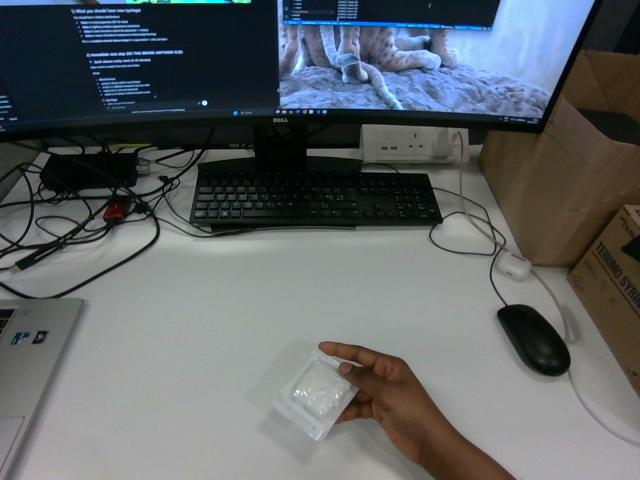gauze: (272, 349, 357, 440)
